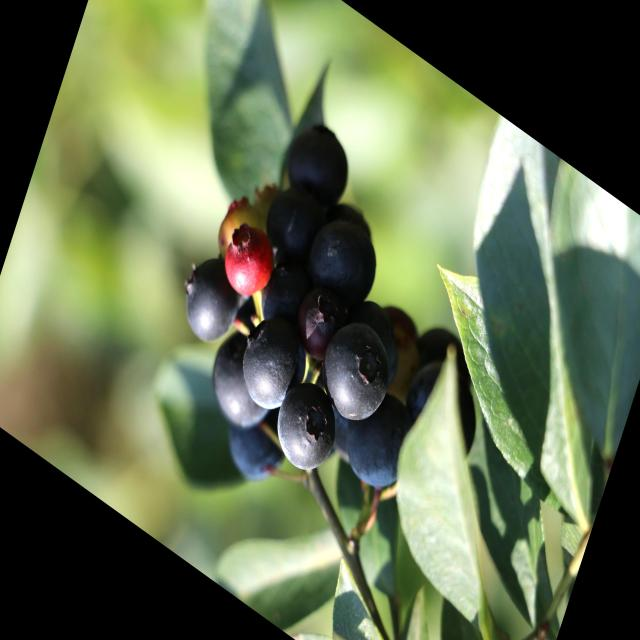blueberry: (309, 302, 404, 444), (227, 297, 322, 437), (334, 376, 426, 511), (397, 348, 486, 474), (266, 371, 350, 491), (306, 202, 386, 320), (278, 110, 358, 225), (218, 406, 298, 516), (202, 327, 279, 440), (175, 245, 246, 355), (256, 174, 329, 278), (247, 245, 316, 345), (291, 280, 344, 369)
blueberry-halfripe: (217, 218, 279, 307)
